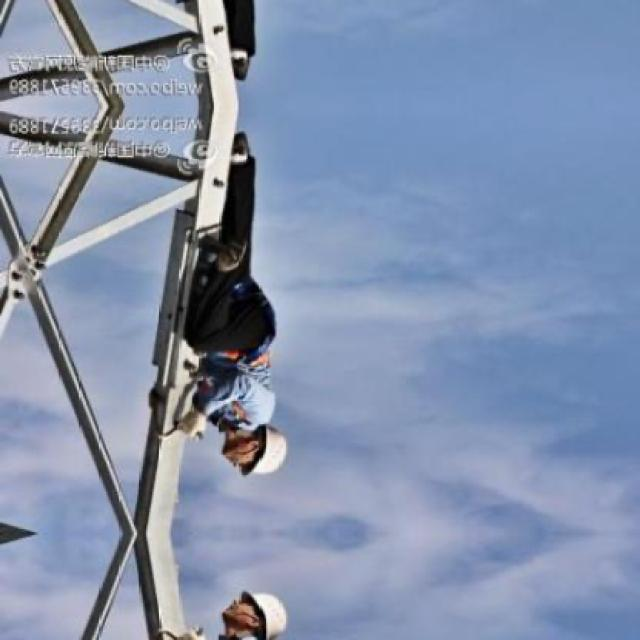con casco: (206, 394, 299, 493)
